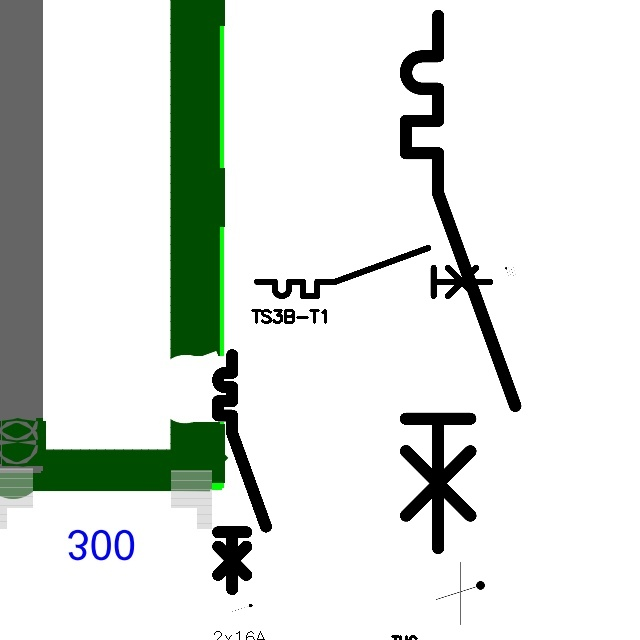interruptor_termomagnetico: (392, 2, 529, 562), (212, 349, 272, 595), (251, 242, 496, 302)
